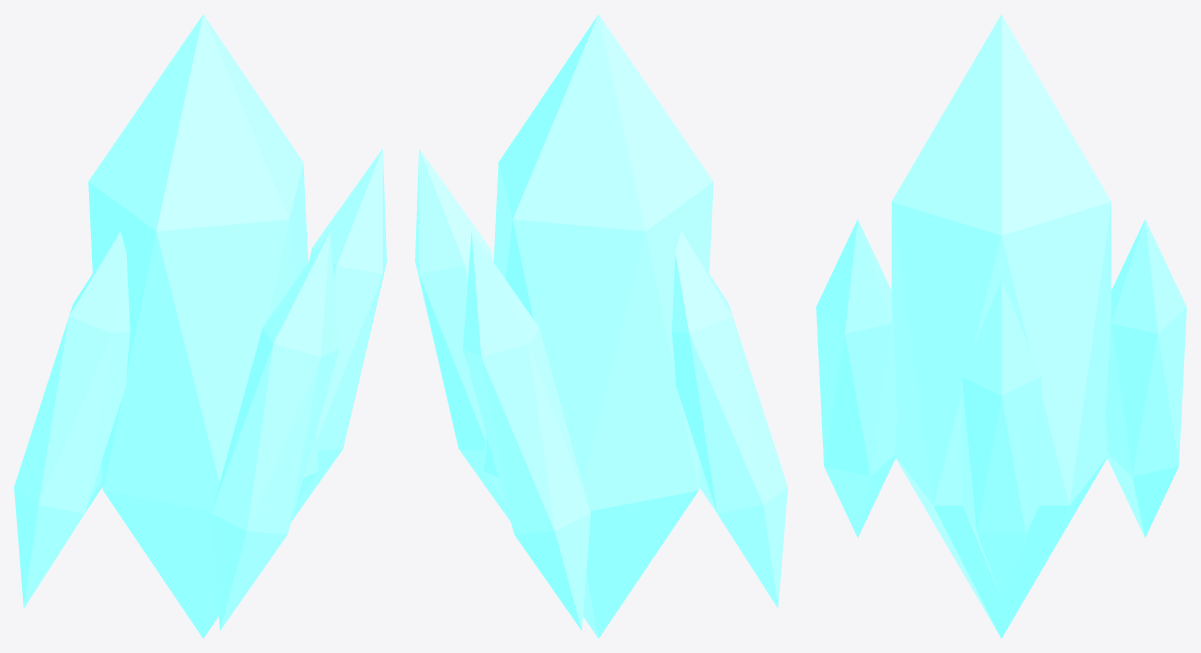
The model's file is frost_cluster.glb.
3 renders of one model, left to right at view 1: azimuth 30°, elevation 25°; view 2: azimuth 150°, elevation 25°; view 3: azimuth 270°, elevation 25°, orthographic.
Parts seen in each view (by area): view 1: frost_cluster; view 2: frost_cluster; view 3: frost_cluster.
Part boxes in pixels (x1,y1,x2,y2): frost_cluster: (14,14,386,638); frost_cluster: (415,14,787,638); frost_cluster: (816,14,1186,638).
Bounding box in the file's own units: 0.5838 × 0.96 × 0.5163.
